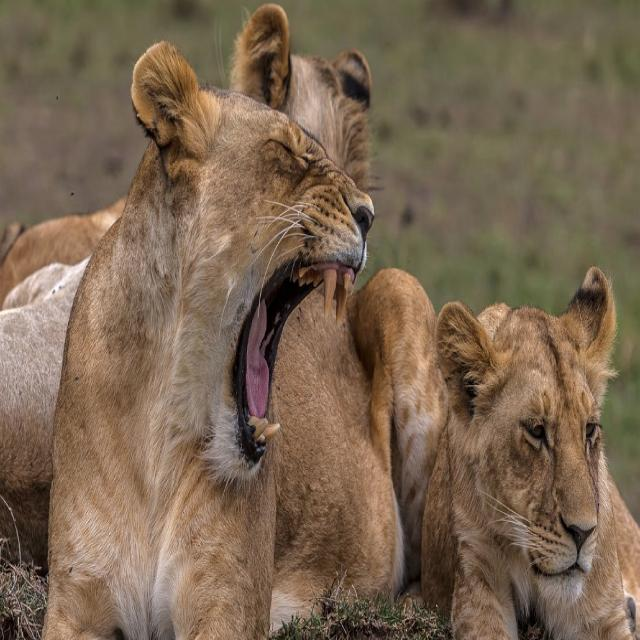lion: (42, 42, 403, 639), (422, 267, 640, 639)
